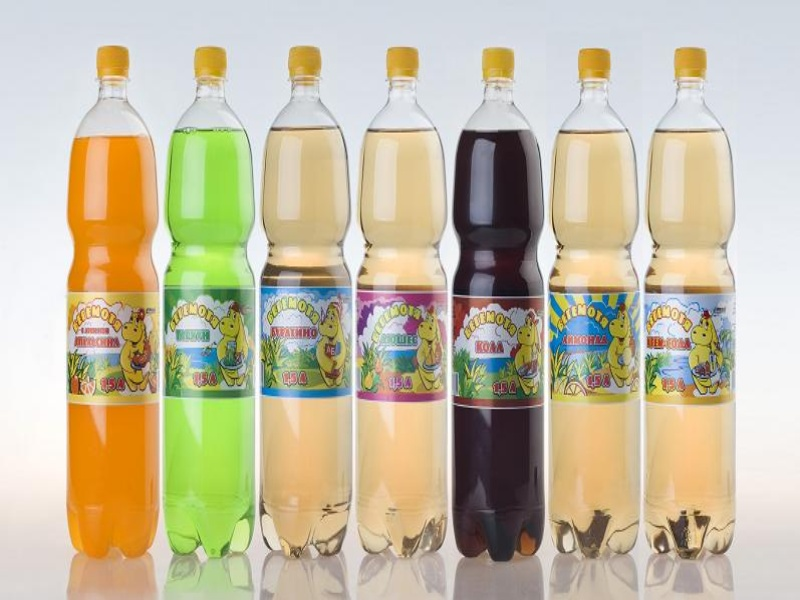lemonade: (58, 41, 164, 558), (543, 37, 645, 563), (351, 41, 450, 564), (252, 45, 351, 564), (451, 41, 545, 560), (646, 40, 737, 568), (168, 44, 252, 560)
